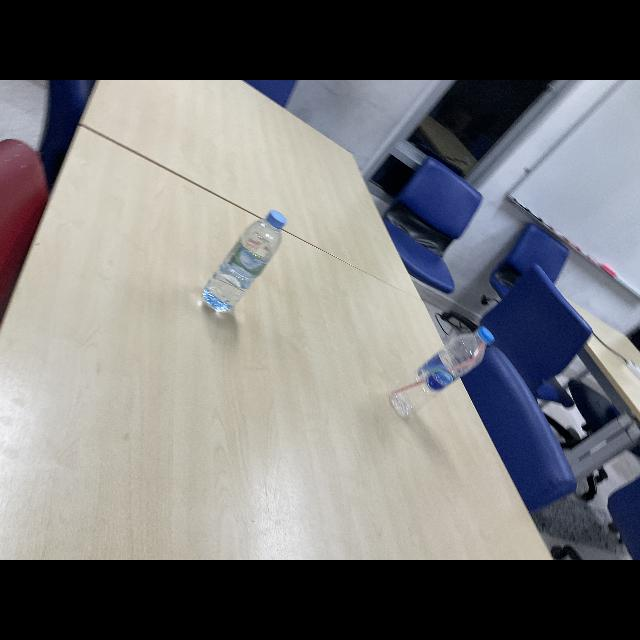plastic_bottle: (390, 324, 494, 424), (200, 210, 288, 316)
plastic_bottle_cap: (266, 210, 288, 230), (479, 326, 495, 348)
straw: (390, 341, 486, 394)
